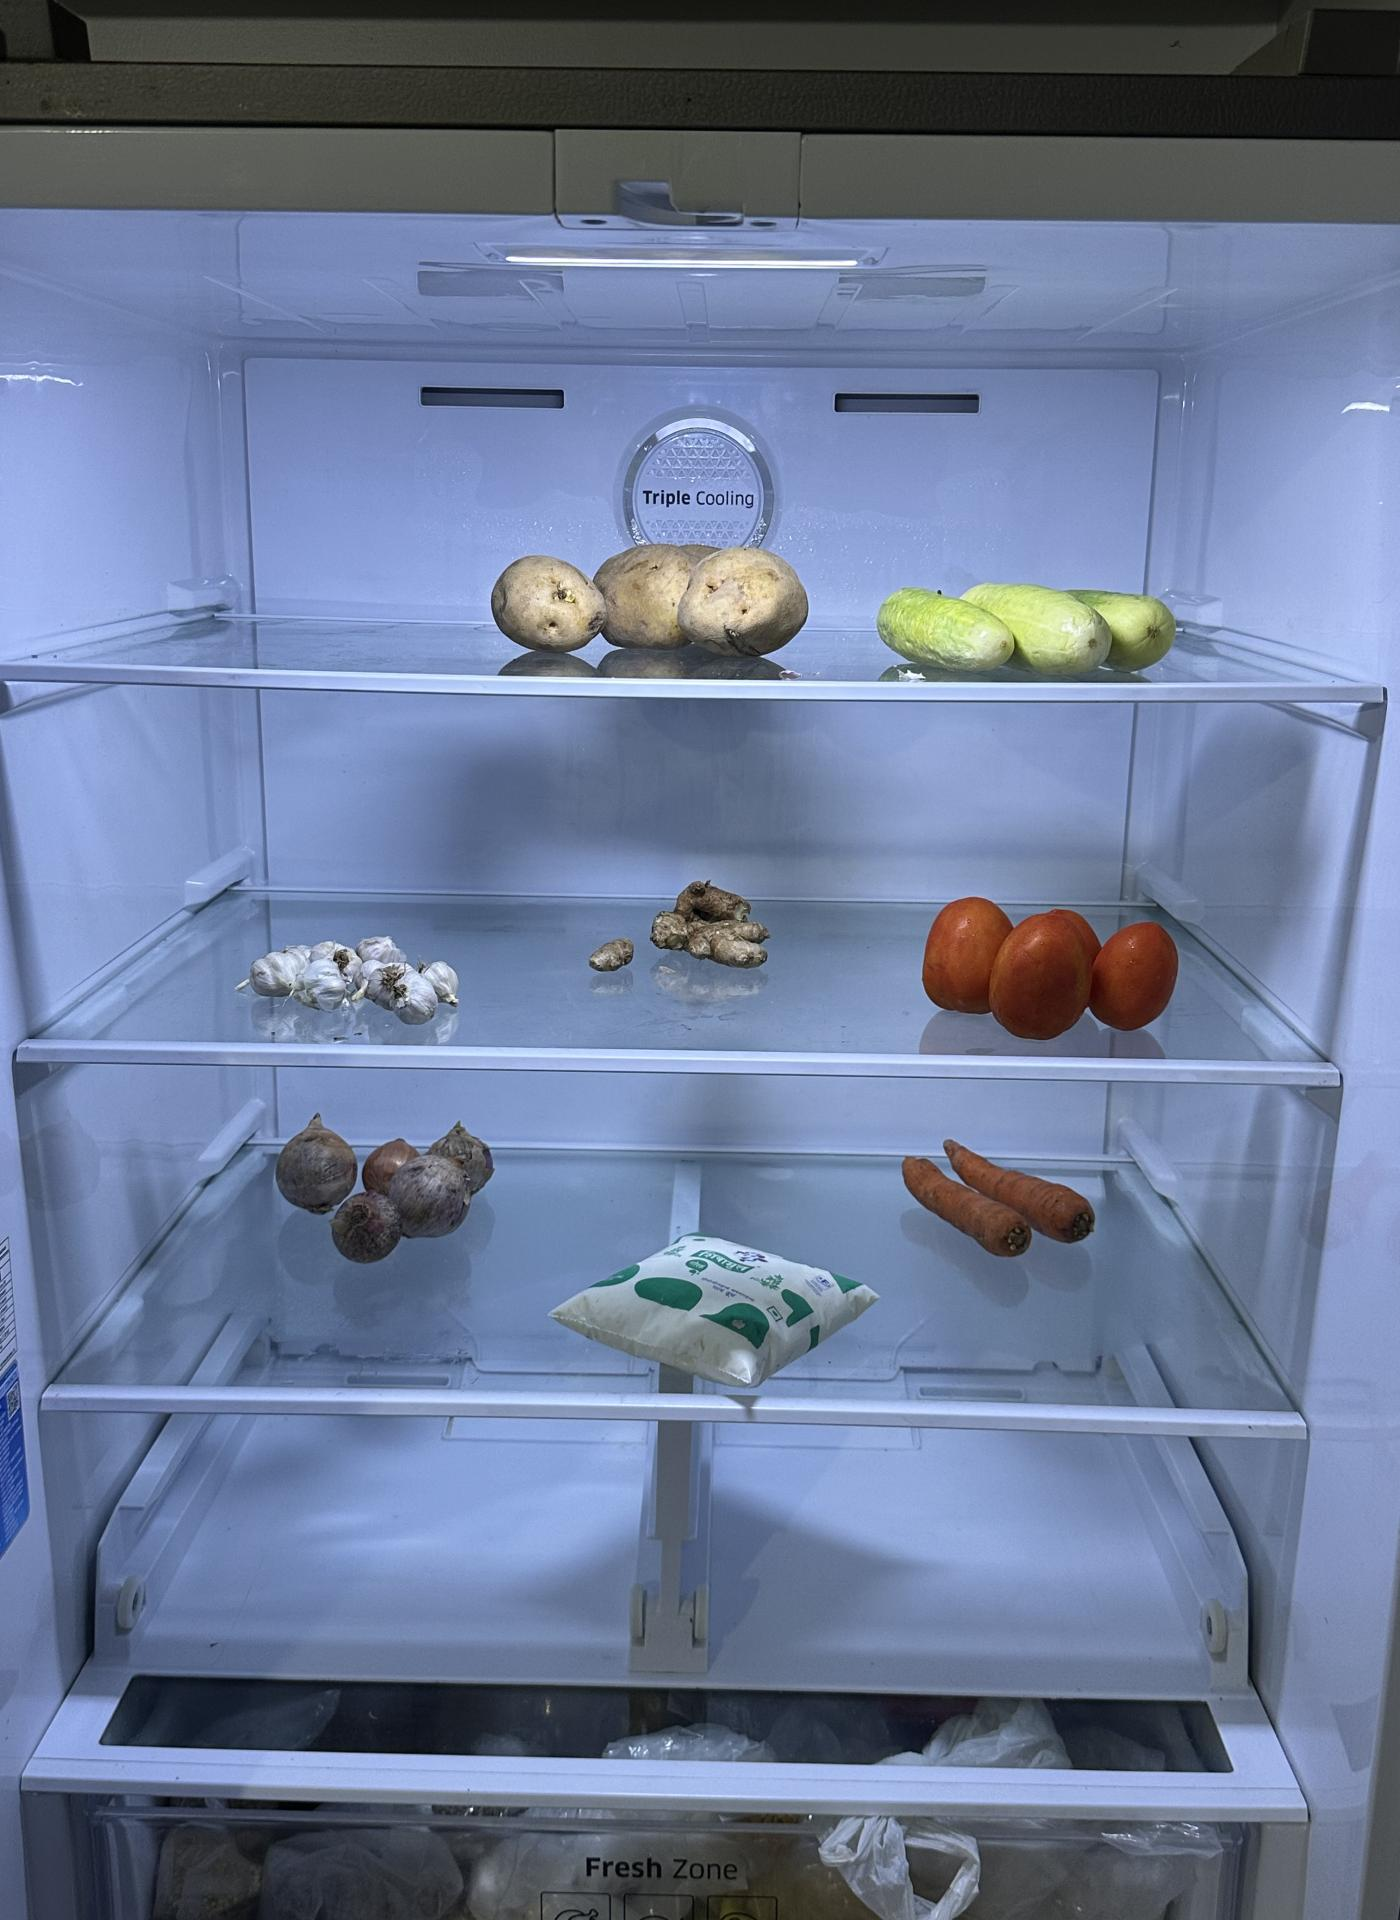carrots: (898, 1127, 1097, 1255)
cucumber: (874, 571, 1179, 681)
garlic: (246, 929, 458, 1030)
ginger: (613, 866, 775, 981)
milk: (549, 1224, 866, 1379)
onion: (273, 1100, 491, 1258)
potato: (485, 538, 817, 666)
tomato: (915, 893, 1182, 1048)
